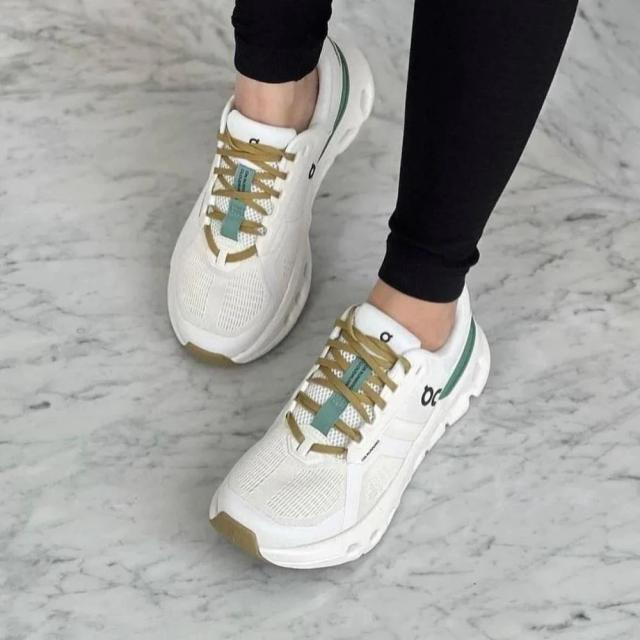OC_logo: (402, 371, 451, 432), (298, 152, 329, 200)
